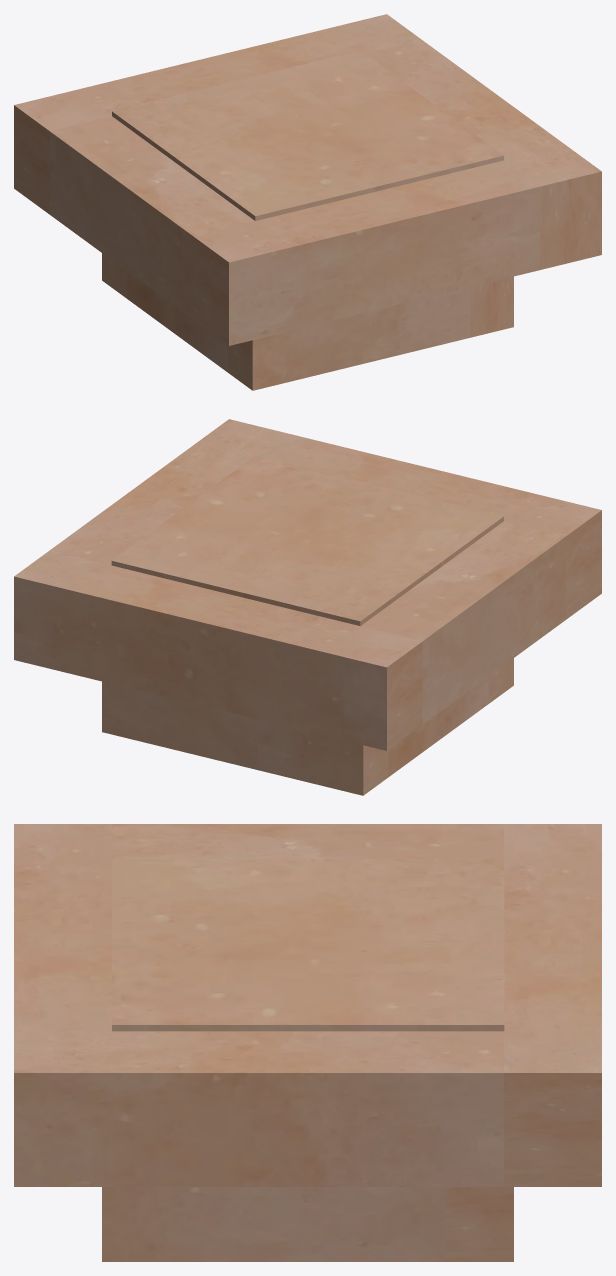
The picture shows the model from 3 angles, top to bottom: view 1: azimuth 30°, elevation 25°; view 2: azimuth 150°, elevation 25°; view 3: azimuth 270°, elevation 25°; orthographic projection. The views are drawn at different scales.
Visible parts, largest first — view 1: SM_BB_T4_Floor_Small_03_LOD0; view 2: SM_BB_T4_Floor_Small_03_LOD0; view 3: SM_BB_T4_Floor_Small_03_LOD0.
Part boxes in pixels (x1=…): SM_BB_T4_Floor_Small_03_LOD0: x1=14, y1=14, x2=601, y2=390; SM_BB_T4_Floor_Small_03_LOD0: x1=14, y1=419, x2=601, y2=795; SM_BB_T4_Floor_Small_03_LOD0: x1=14, y1=824, x2=601, y2=1261.
Size of the model in its own units: 1.13 by 0.4912 by 1.12.
1 material, 1 textured.
